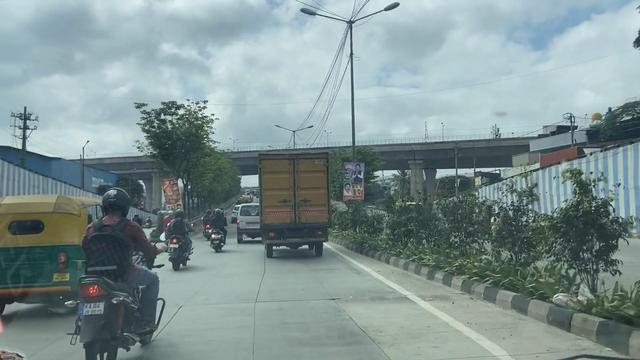HMV: (258, 151, 328, 252)
LMV: (83, 204, 157, 354), (170, 212, 191, 267), (206, 199, 226, 256)
